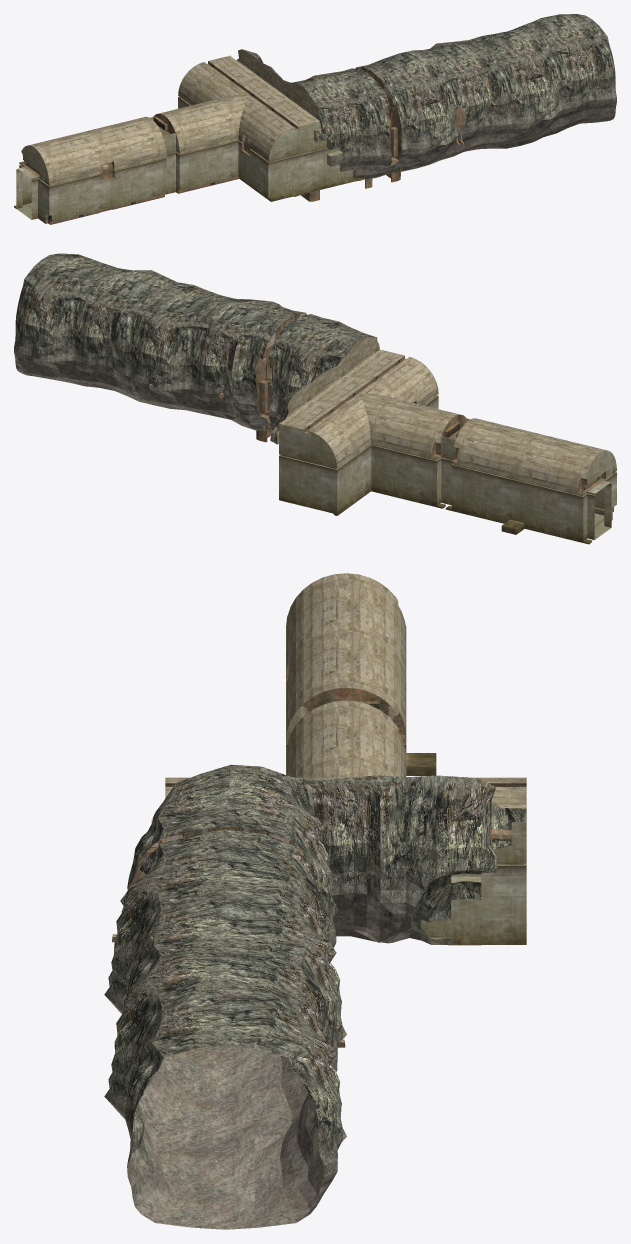
Rendered from poi_all_bunker_mad_bio_s01_r4_transition1_mesh_r4.fbx.
The picture shows the model from 3 angles, top to bottom: view 1: azimuth 30°, elevation 25°; view 2: azimuth 150°, elevation 25°; view 3: azimuth 270°, elevation 25°; orthographic projection. The views are drawn at different scales.
Visible parts, largest first — view 1: mesh_node; view 2: mesh_node; view 3: mesh_node.
Boxes of the visible parts, bbox=[...] form: mesh_node: bbox=[14, 14, 616, 224]; mesh_node: bbox=[14, 253, 616, 544]; mesh_node: bbox=[104, 573, 526, 1229].
Size of the model in its own units: 41 by 7.73 by 14.03.
